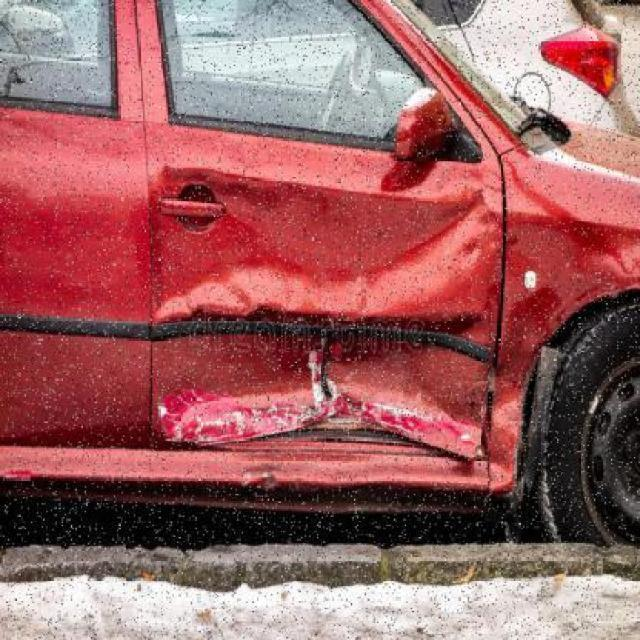RunningBoard-Dent: (208, 443, 424, 521), (0, 436, 152, 519)
doorouter-dent: (151, 133, 492, 456)
fender-dent: (500, 152, 639, 390)
